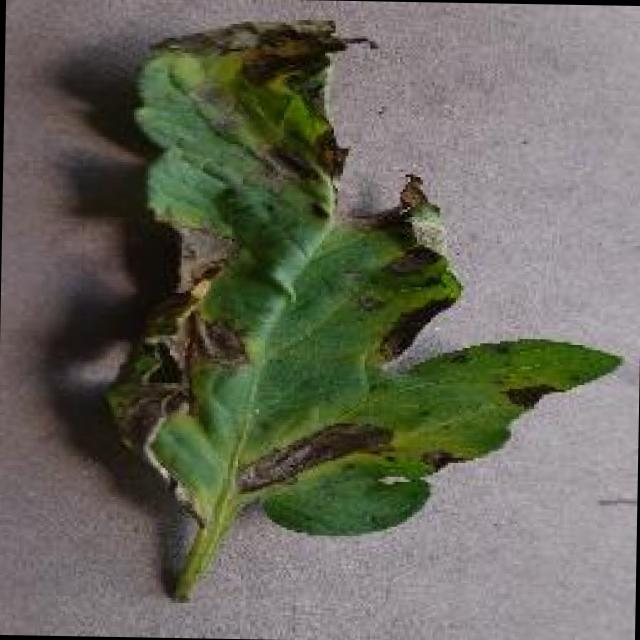Tomato_Early_Blight: (114, 2, 486, 570)
